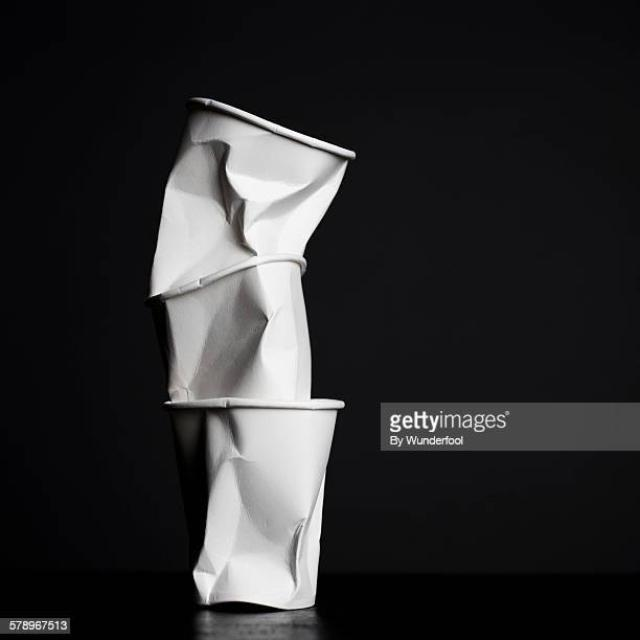trash: (148, 95, 358, 297), (190, 398, 342, 610), (164, 256, 316, 408)
